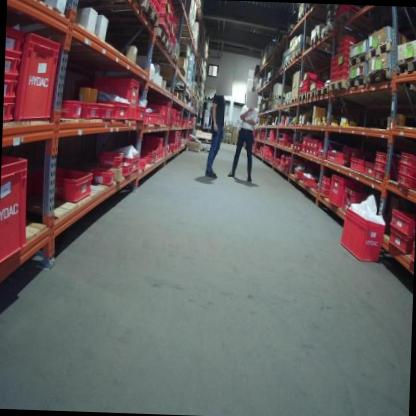pallet: (367, 39, 394, 60), (366, 67, 394, 85), (396, 57, 416, 76), (146, 1, 159, 29), (334, 11, 354, 29), (348, 52, 368, 68), (156, 27, 169, 50), (347, 74, 366, 89), (330, 78, 347, 94), (316, 85, 330, 98), (166, 41, 175, 60), (309, 33, 321, 47), (133, 0, 147, 12), (306, 90, 317, 100), (294, 49, 303, 61), (297, 11, 305, 23), (298, 92, 307, 102), (289, 55, 295, 66), (291, 96, 298, 103), (284, 61, 289, 68)
small_load_carrier: (14, 34, 60, 124), (0, 154, 33, 268), (33, 162, 94, 209), (338, 207, 383, 263), (93, 76, 139, 121), (389, 207, 414, 235), (386, 227, 410, 256), (327, 174, 345, 209), (7, 25, 27, 53), (96, 150, 128, 167), (88, 168, 114, 188), (342, 186, 369, 205), (6, 53, 26, 78), (61, 99, 81, 124), (95, 100, 114, 124), (142, 138, 163, 159), (80, 101, 99, 124), (5, 77, 21, 104), (395, 176, 416, 193), (160, 102, 173, 129), (109, 100, 127, 119), (327, 152, 348, 167), (400, 152, 416, 170), (5, 102, 17, 126), (147, 112, 164, 128), (117, 164, 134, 180), (121, 156, 138, 172), (300, 174, 319, 188), (349, 156, 363, 172), (140, 153, 156, 167), (399, 166, 416, 179), (337, 36, 359, 46), (375, 151, 391, 164), (308, 81, 325, 92), (366, 162, 376, 179), (338, 43, 359, 51), (376, 172, 388, 184), (323, 173, 333, 187), (337, 56, 354, 64), (376, 163, 391, 172), (136, 106, 145, 121), (409, 242, 415, 264), (294, 168, 306, 179), (318, 141, 329, 152), (139, 159, 147, 174), (336, 67, 351, 75), (338, 50, 355, 57), (320, 191, 330, 200), (311, 150, 321, 159), (329, 75, 340, 83), (298, 85, 309, 93), (168, 144, 177, 153), (312, 141, 322, 149), (330, 56, 341, 63), (305, 75, 317, 81), (321, 183, 331, 190), (337, 63, 351, 68), (337, 74, 348, 80), (153, 150, 158, 163), (331, 63, 340, 70), (172, 117, 177, 129), (173, 108, 178, 118), (330, 70, 340, 75), (298, 81, 308, 86), (318, 153, 326, 158), (298, 93, 309, 95)
